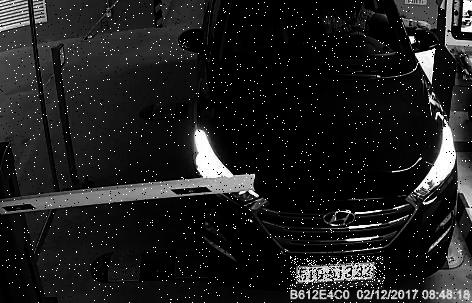License-plate: (292, 257, 387, 290)
